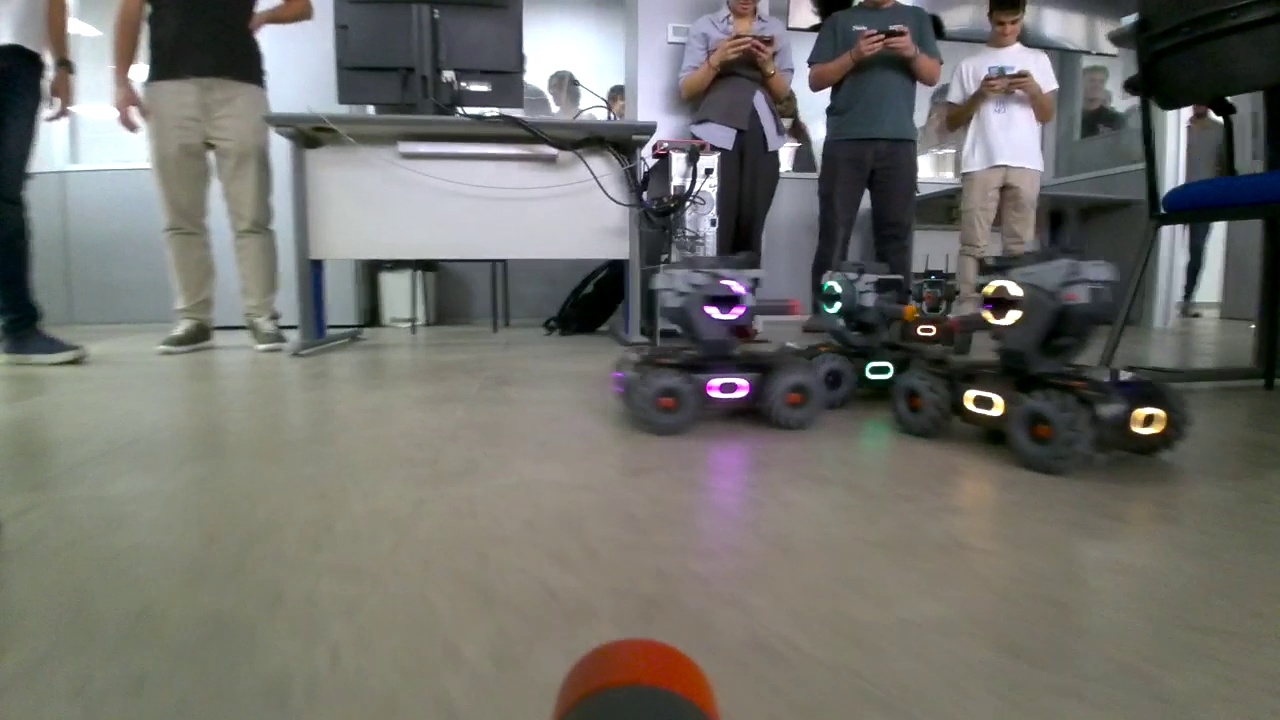robot: (895, 243, 1190, 471), (608, 232, 820, 440), (807, 259, 927, 392), (897, 252, 976, 363)
